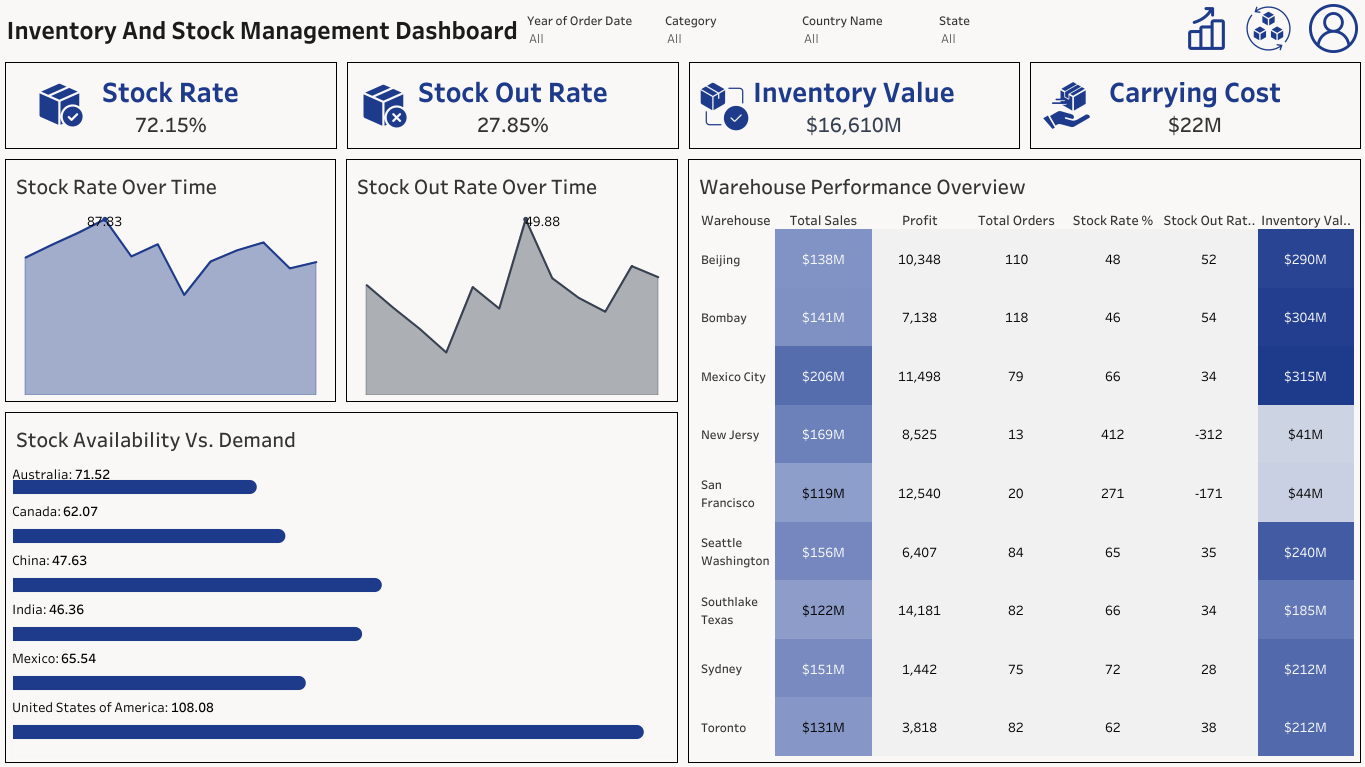

What the dashboard file says about the page in this screenshot:
{"tool":"tableau","page":{"name":"Inventory And Stock Management Dashbaord","canvas":[1366,768],"ordinal":1},"visuals":[{"type":"title","box":[0,0,1176,57]},{"type":"dashboard-object","box":[1176,0,61,57]},{"type":"dashboard-object","box":[1237,0,64.5,57]},{"type":"dashboard-object","box":[1301.5,0,64.5,57]},{"type":"filter","title":"Stock Availability Vs. Demand","param":"[federated.0mpoz2c1onk61n1gjcsnq1a0sbnb].[yr:OrderDate:ok]","box":[527,10,139,45]},{"type":"filter","title":"Stock Availability Vs. Demand","param":"[federated.0mpoz2c1onk61n1gjcsnq1a0sbnb].[none:CategoryName:nk]","box":[665,10,139,45]},{"type":"filter","title":"Stock Availability Vs. Demand","param":"[federated.0mpoz2c1onk61n1gjcsnq1a0sbnb].[none:CountryName:nk]","box":[802,10,139,45]},{"type":"filter","title":"Warehouse Performance Overview","param":"[federated.0mpoz2c1onk61n1gjcsnq1a0sbnb].[none:State:nk]","box":[939,10,139,47]},{"type":"worksheet","title":"KPI Stock Rate","mark":"Automatic","box":[0,57,342,97]},{"type":"worksheet","title":"KPI Stock Out Rate","mark":"Automatic","box":[342,57,342,97]},{"type":"worksheet","title":"KPI Total Inventory Value","mark":"Automatic","box":[684,57,341,97]},{"type":"worksheet","title":"KPI Carrying Cost Of Inventory","mark":"Automatic","box":[1025,57,341,97]},{"type":"blank","box":[4,63,1353,85]},{"type":"image","param":"Image/stock rate.png","box":[34,79,72,53]},{"type":"image","param":"Image/delivery-service.png","box":[1040,79,72,53]},{"type":"image","param":"Image/out-of-stock.png","box":[358,80,72,53]},{"type":"image","param":"Image/inventory value.png","box":[698,80,72,53]},{"type":"worksheet","title":"Stock Rate Over Time","mark":"Line","rows":["Calculation_727331381821771781","Calculation_727331381821771781"],"cols":["OrderDate"],"box":[0,153.8,341.4,253.1]},{"type":"worksheet","title":"Stock Out Rate Over Time","mark":"Line","rows":["Calculation_727331381827244040","Calculation_727331381827244040"],"cols":["OrderDate"],"box":[341.4,153.8,341.4,253.1]},{"type":"worksheet","title":"Warehouse Performance Overview","mark":"Square","rows":["WarehouseName"],"box":[683,153.8,683,614.2]},{"type":"worksheet","title":"Stock Availability Vs. Demand","mark":"Line","rows":["CountryName"],"box":[0,406.9,683,361.1]}]}

Visuals, with their boxes in screenshot pixels (x1, y1, x2, y2), scaled from the page's 1366x768 canvas onto the 1365x767 screenshot:
title: l=0, t=0, r=1175, b=57
dashboard-object: l=1175, t=0, r=1236, b=57
dashboard-object: l=1236, t=0, r=1301, b=57
dashboard-object: l=1301, t=0, r=1364, b=57
"Stock Availability Vs. Demand" filter: l=527, t=10, r=666, b=55
"Stock Availability Vs. Demand" filter: l=665, t=10, r=803, b=55
"Stock Availability Vs. Demand" filter: l=801, t=10, r=940, b=55
"Warehouse Performance Overview" filter: l=938, t=10, r=1077, b=57
"KPI Stock Rate" worksheet: l=0, t=57, r=342, b=154
"KPI Stock Out Rate" worksheet: l=342, t=57, r=683, b=154
"KPI Total Inventory Value" worksheet: l=683, t=57, r=1024, b=154
"KPI Carrying Cost Of Inventory" worksheet: l=1024, t=57, r=1364, b=154
blank: l=4, t=63, r=1356, b=148
image: l=34, t=79, r=106, b=132
image: l=1039, t=79, r=1111, b=132
image: l=358, t=80, r=430, b=133
image: l=697, t=80, r=769, b=133
"Stock Rate Over Time" worksheet (Line marks): l=0, t=154, r=341, b=406
"Stock Out Rate Over Time" worksheet (Line marks): l=341, t=154, r=682, b=406
"Warehouse Performance Overview" worksheet (Square marks): l=682, t=154, r=1364, b=766
"Stock Availability Vs. Demand" worksheet (Line marks): l=0, t=406, r=682, b=766
